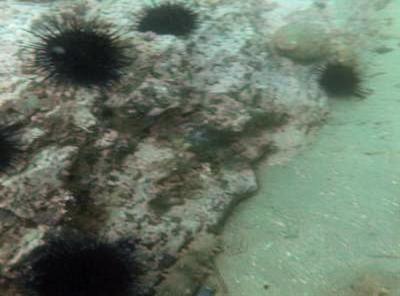urchin: (21, 230, 149, 296), (37, 20, 130, 88), (136, 1, 201, 38), (317, 58, 364, 101)
